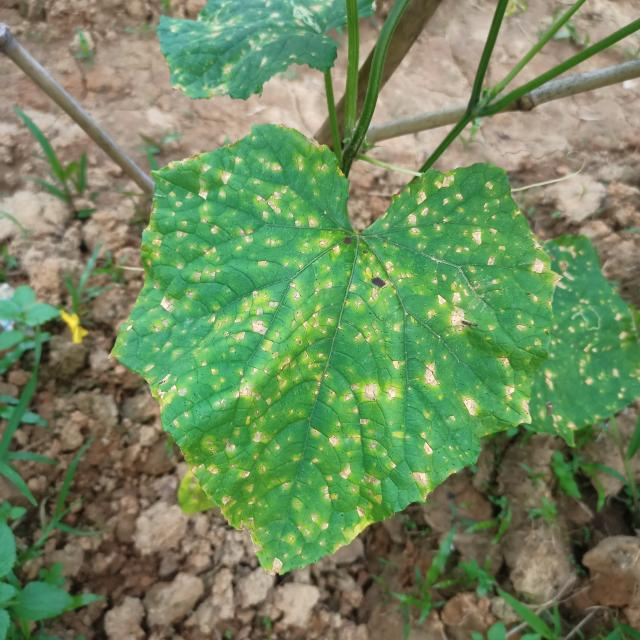disease_cucumber: (136, 159, 537, 556), (539, 248, 637, 434)
